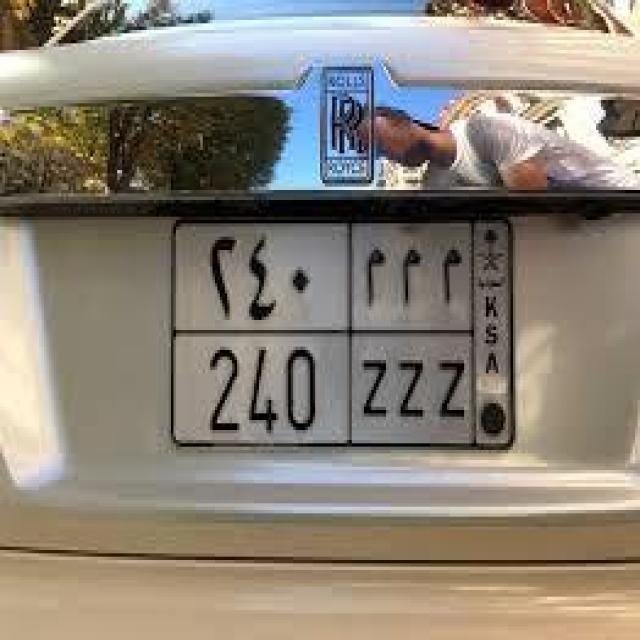license_plate: (137, 186, 515, 476)
